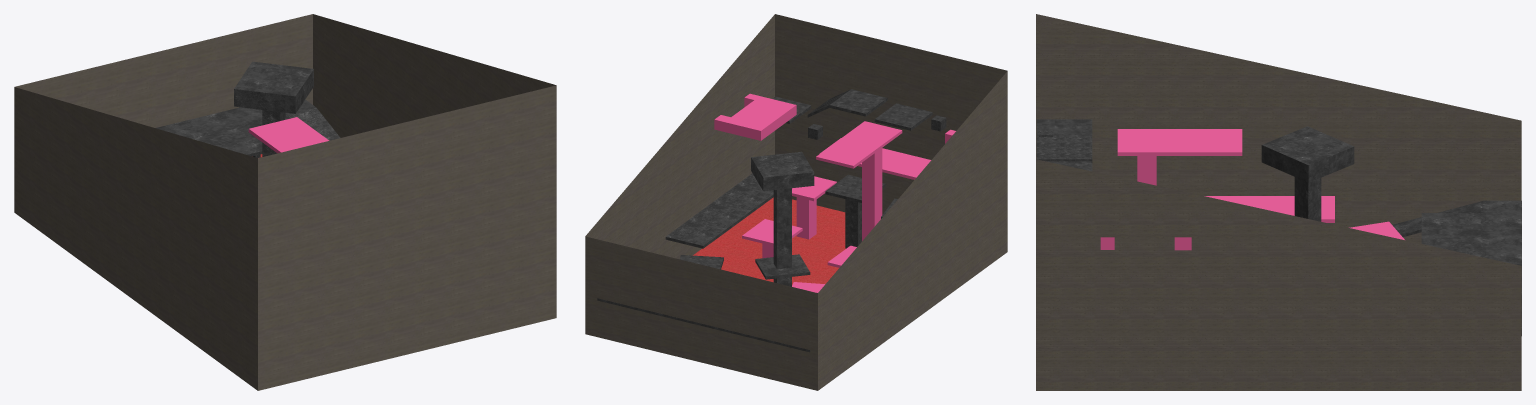
File: arena_4.glb
3 views of the same model, side by side, from view 1: azimuth 30°, elevation 25°; view 2: azimuth 150°, elevation 25°; view 3: azimuth 270°, elevation 25° (orthographic). The views are drawn at different scales.
Visible parts, largest first — view 1: walls, main, ledge_2.008, ledge_2.009; view 2: walls, ground_real, ledge_2.008, ledge_2.009, ledge_1, Cube.004, ledge_2.007, ledge_2.005, ledge_1.004, ledge_1.001, ledge_1.005, ledge_2.004 (+2 smaller); view 3: walls, main, ledge_2.008, ledge_2.009, ledge_1.005, ledge_0, ledge_1.002, ledge_2.002, Cube.004.
Boxes of the visible parts, bbox=[...] form: walls: bbox=[14, 14, 556, 390]; main: bbox=[155, 99, 340, 157]; ledge_2.008: bbox=[234, 61, 313, 156]; ledge_2.009: bbox=[248, 117, 329, 153]; walls: bbox=[585, 14, 1007, 390]; ground_real: bbox=[693, 197, 845, 285]; ledge_2.008: bbox=[751, 151, 814, 286]; ledge_2.009: bbox=[816, 121, 902, 240]; ledge_1: bbox=[665, 173, 773, 248]; Cube.004: bbox=[714, 93, 796, 140]; ledge_2.007: bbox=[825, 174, 885, 248]; ledge_2.005: bbox=[792, 176, 836, 239]; ledge_1.004: bbox=[807, 89, 887, 117]; ledge_1.001: bbox=[819, 138, 931, 179]; ledge_1.005: bbox=[874, 103, 932, 130]; ledge_2.004: bbox=[742, 219, 802, 258]; walls: bbox=[1036, 14, 1521, 390]; main: bbox=[1392, 200, 1521, 335]; ledge_2.008: bbox=[1261, 126, 1354, 221]; ledge_2.009: bbox=[1117, 129, 1242, 185]; ledge_1.005: bbox=[1036, 136, 1092, 162]; ledge_0: bbox=[1204, 196, 1334, 222]; ledge_1.002: bbox=[1036, 119, 1092, 171]; ledge_2.002: bbox=[1349, 221, 1404, 239]; Cube.004: bbox=[1100, 237, 1191, 250].
Bounding box in the file's own units: 22.77 × 17.41 × 32.17.
Materials: 23 (23 with a texture image).
